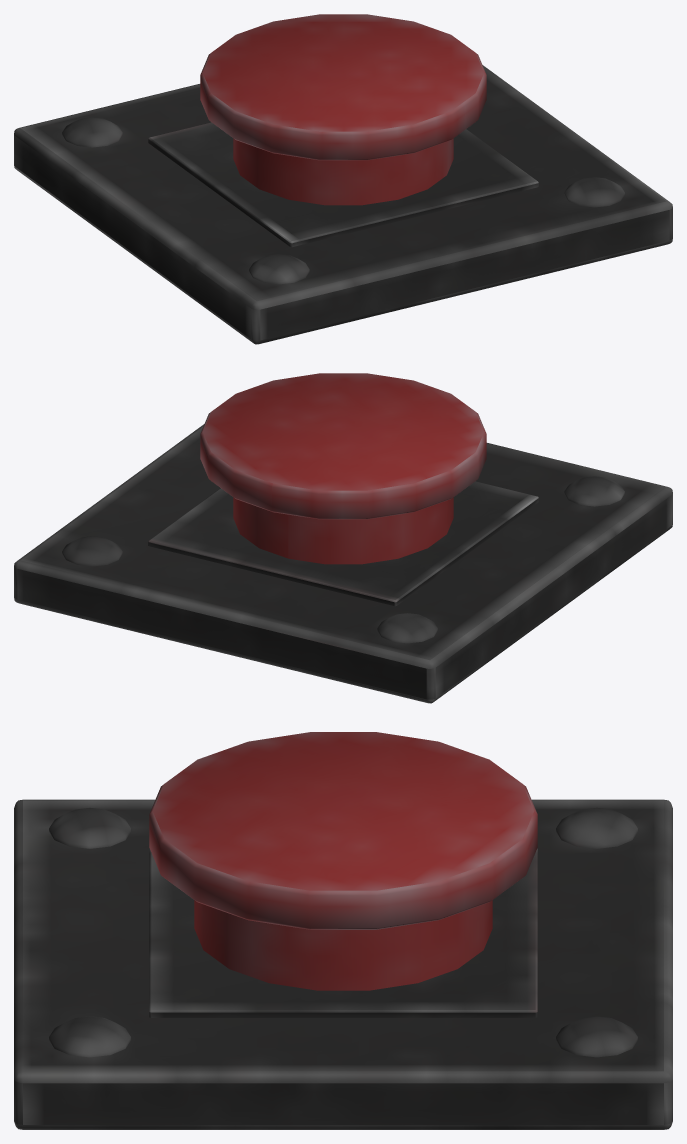
File: Button.glb
3 renders of one model, top to bottom at view 1: azimuth 30°, elevation 25°; view 2: azimuth 150°, elevation 25°; view 3: azimuth 270°, elevation 25°, orthographic. The views are drawn at different scales.
Visible parts, largest first — view 1: BRB; view 2: BRB; view 3: BRB.
Boxes of the visible parts, x1,y1,x2,y2 form: BRB: (14,14,672,344); BRB: (14,373,672,703); BRB: (14,732,672,1129).
Bounding box in the file's own units: 0.2116 × 0.0646 × 0.2116.
Materials: 1 (1 with a texture image).
